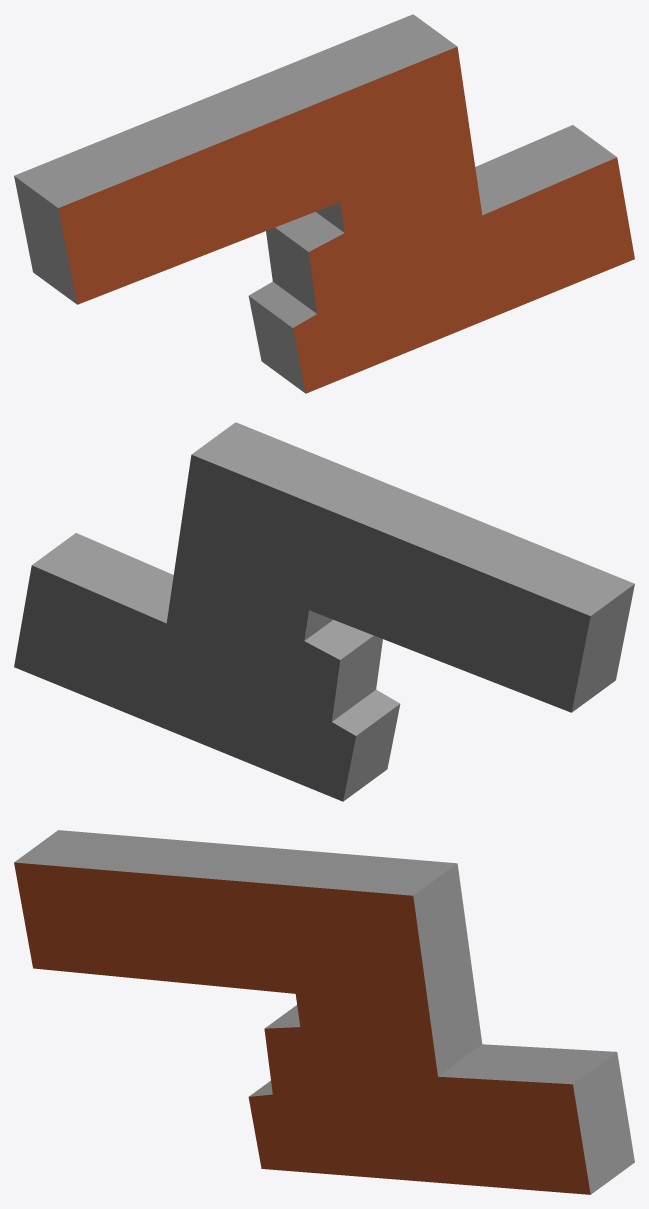
Rendered from construction_4173_assumed_A_Casa_h6m.obj.
3 views of the same model, one above another, from view 1: azimuth 30°, elevation 25°; view 2: azimuth 150°, elevation 25°; view 3: azimuth 330°, elevation 25° (orthographic).
Parts seen in each view (by area): view 1: construction_4173_assumed_A_Casa; view 2: construction_4173_assumed_A_Casa; view 3: construction_4173_assumed_A_Casa.
Boxes of the visible parts, bbox=[...] form: construction_4173_assumed_A_Casa: bbox=[14, 14, 634, 393]; construction_4173_assumed_A_Casa: bbox=[14, 422, 634, 801]; construction_4173_assumed_A_Casa: bbox=[14, 830, 634, 1194].
Size of the model in its own units: 45.09 by 23.17 by 6.
